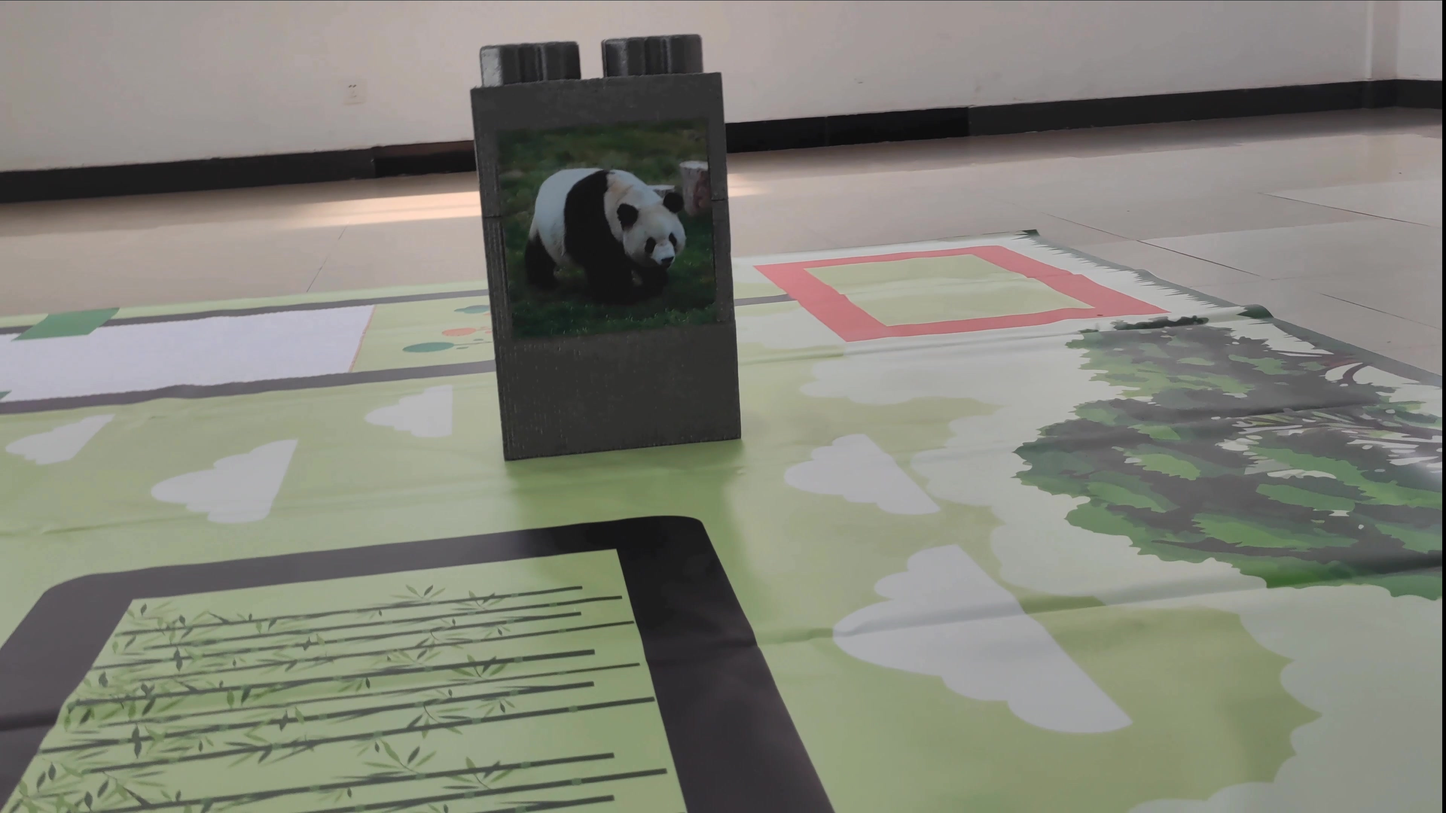panda: (494, 152, 714, 309)
